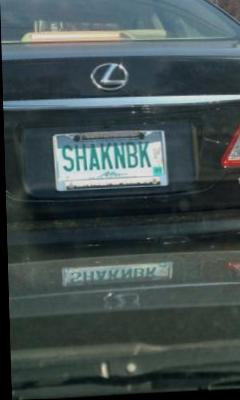License_Plate: (52, 130, 169, 189)
